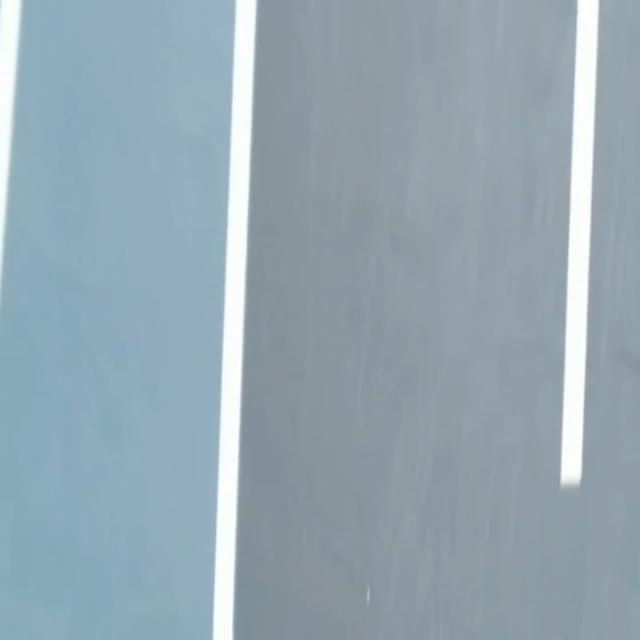center: (560, 0, 598, 487)
left: (212, 0, 256, 639)
